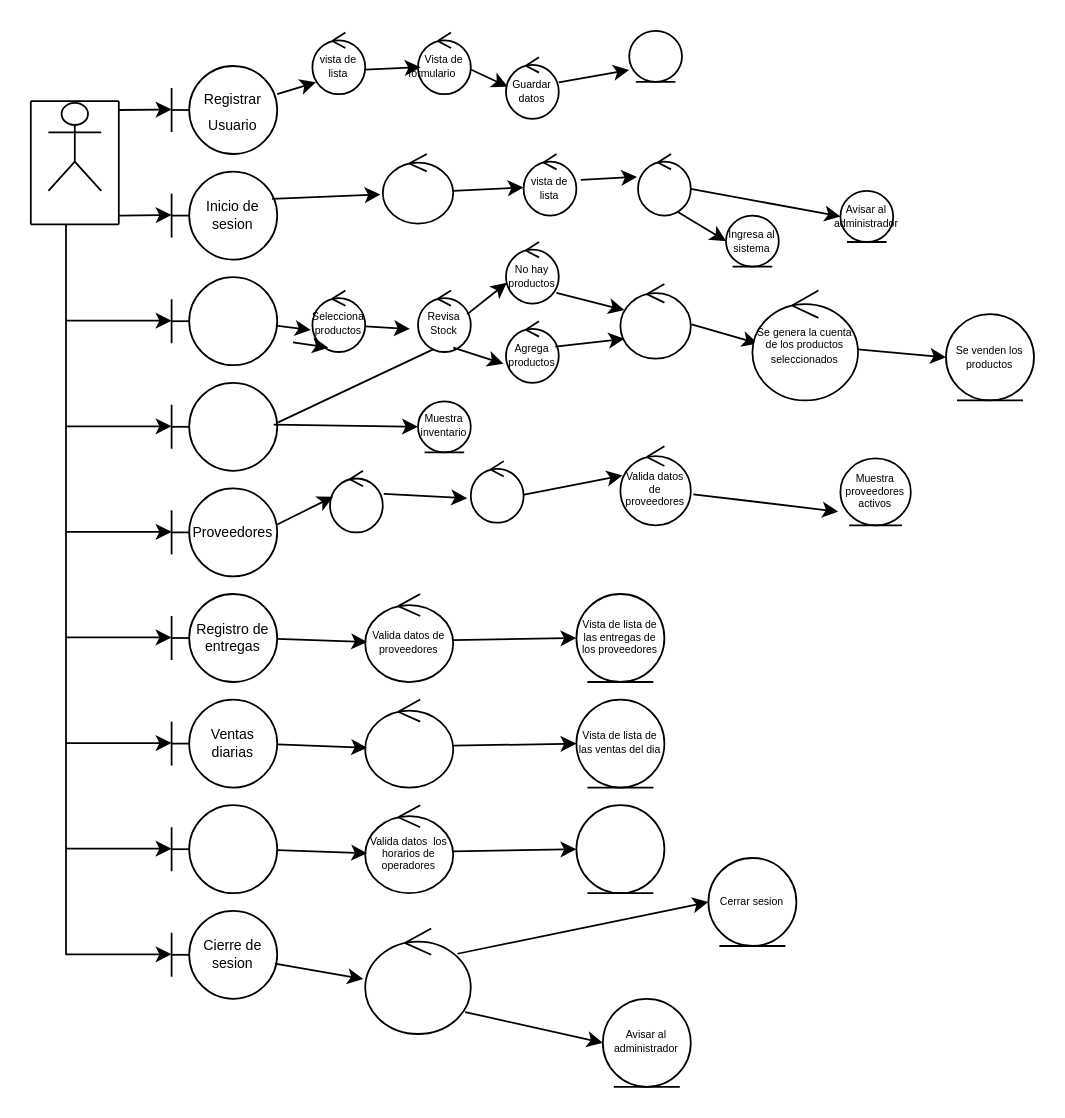
This 1065x1118 diagram has some shape labels left out. The shapes that lost their labels are listed below. From the top down, each one's centre as x and y in pixels, then its label:
At pixel 654 55: "Usuario registrado".
At pixel 74 146: "Actor".
At pixel 417 188: "Valida Datos de inicio de sesion".
At pixel 663 184: "Reintentar".
At pixel 223 320: "Venta de producto".
At pixel 655 320: "Agregar mas productos".
At pixel 223 426: "Inventario".
At pixel 355 500: "Vista lista".
At pixel 496 491: "Vista formulario".
At pixel 408 743: "Valida datos las ventas diarias".
At pixel 223 848: "Horarios de operadores".
At pixel 619 848: "Vista de lista de los horarios de los operadores".
At pixel 417 980: "Validacion de pregunta. Esta de acuerdo con sus datos?".
